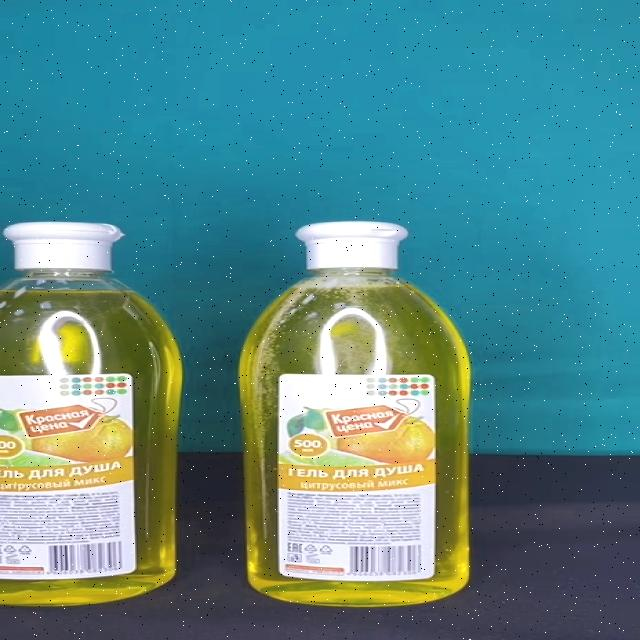Bottle: (239, 222, 473, 608), (0, 220, 182, 607)
Cap: (3, 222, 124, 271), (294, 222, 407, 270)
